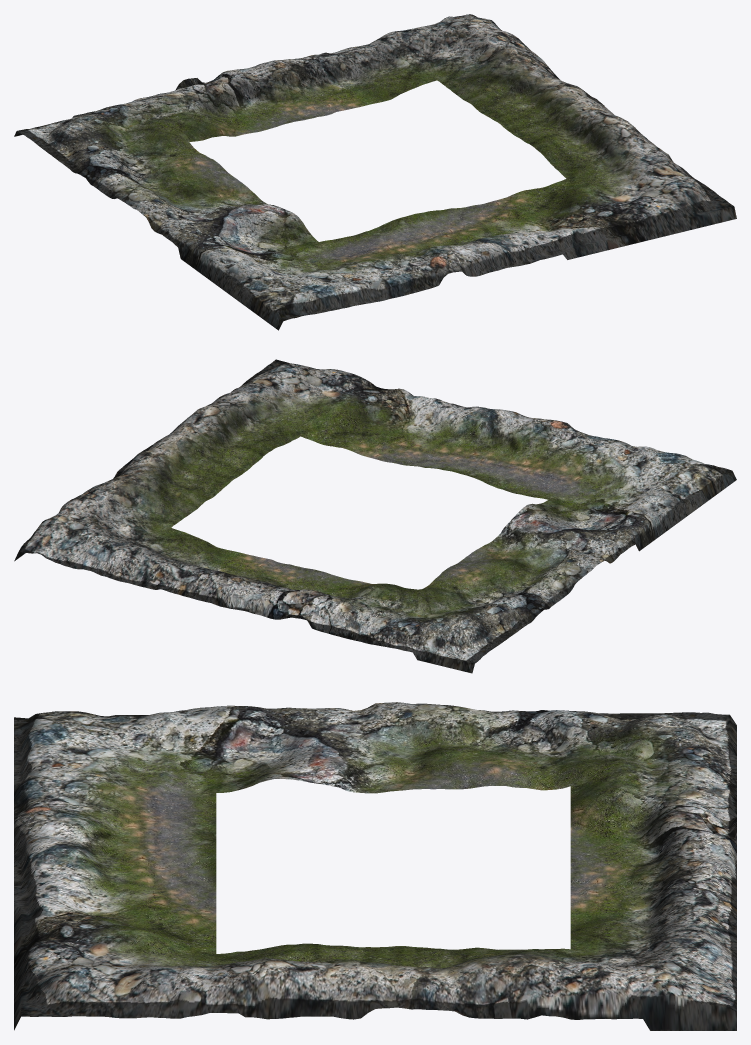
File: mountains.dae
3 renders of one model, top to bottom at view 1: azimuth 30°, elevation 25°; view 2: azimuth 150°, elevation 25°; view 3: azimuth 270°, elevation 25°, orthographic. The views are drawn at different scales.
Visible parts, largest first — view 1: Plane01; view 2: Plane01; view 3: Plane01.
Boxes of the visible parts, <box> form: Plane01: <box>14,14,736,330</box>; Plane01: <box>14,359,736,673</box>; Plane01: <box>14,702,736,1030</box>.
Bounding box in the file's own units: 100 × 100 × 7.41.
1 material, 1 textured.
